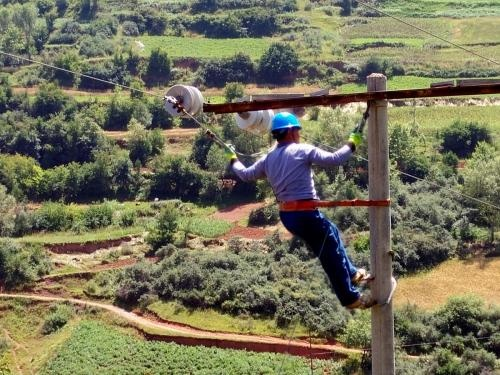blue: (266, 111, 302, 147)
